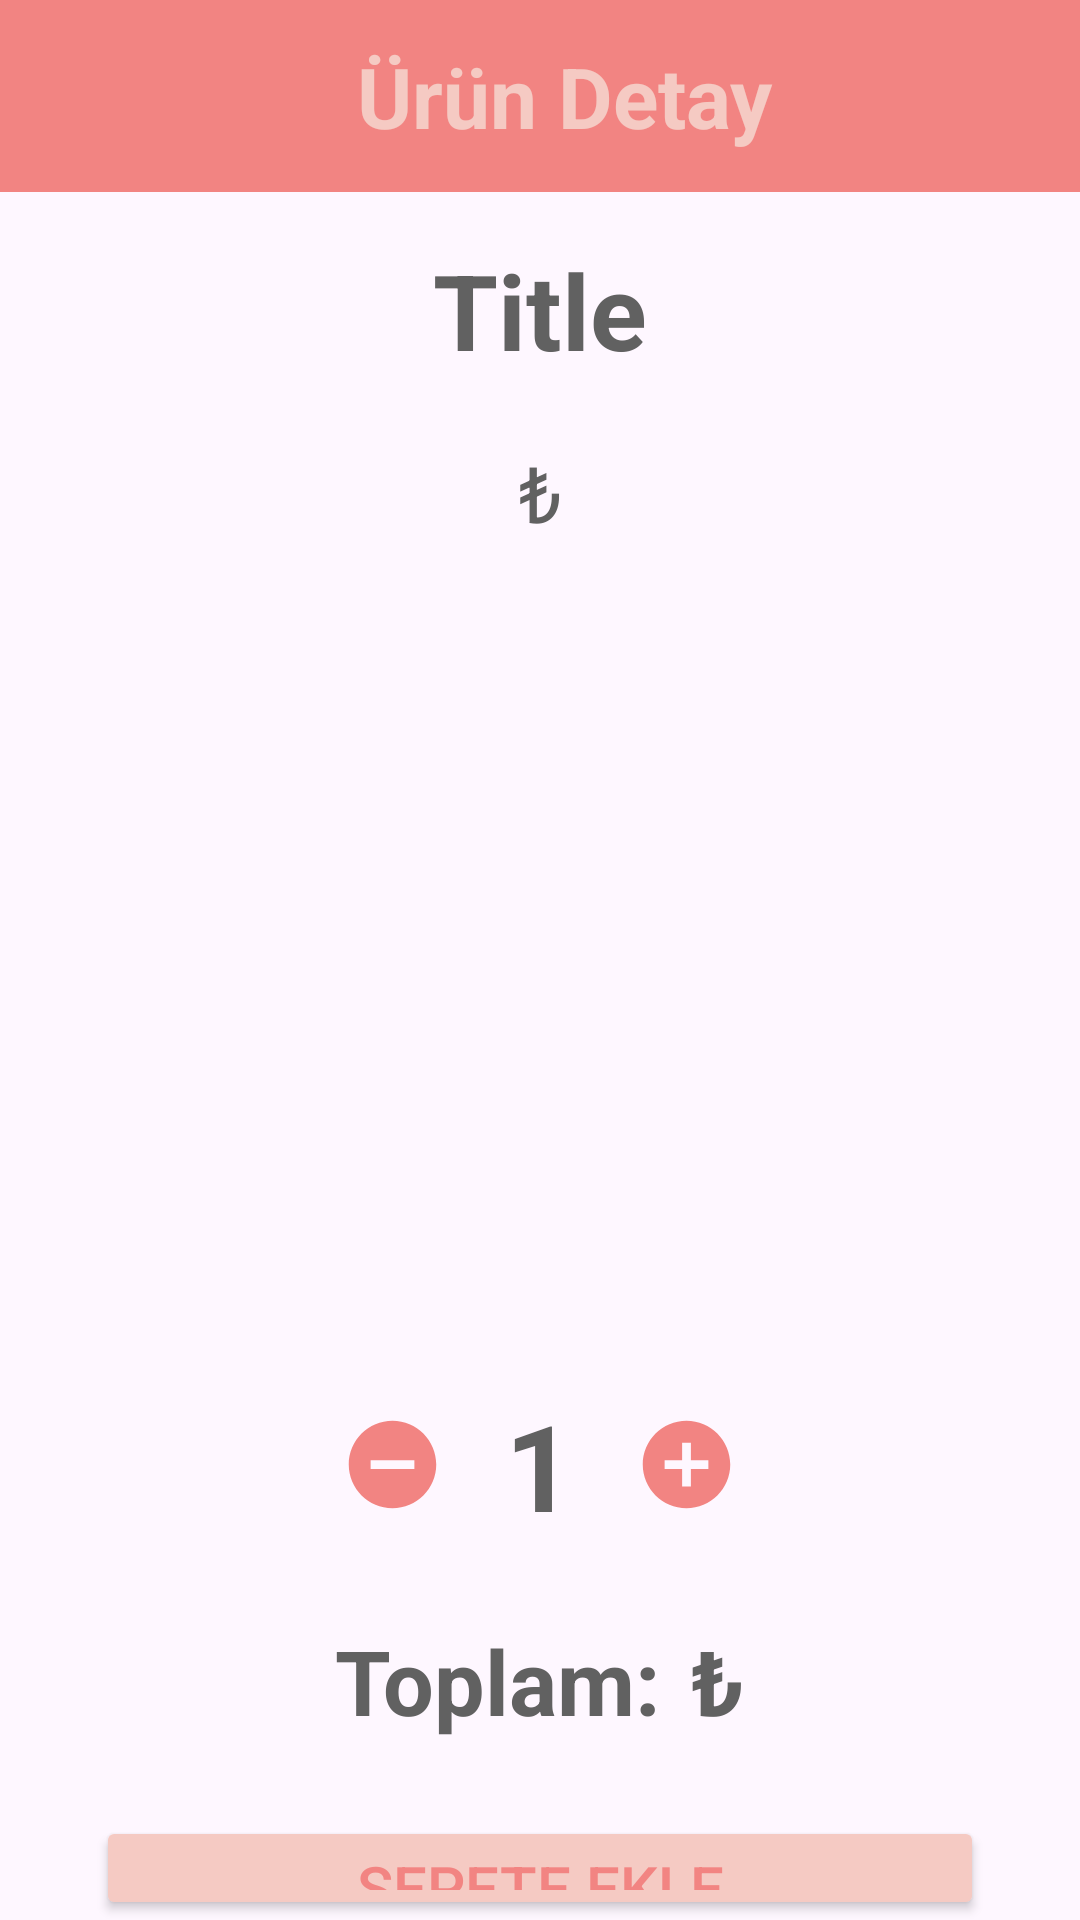

Named icons in this screenshot (1080×1920) and their bounding boxes, BBox(x1, y1, x2, y2):
add circle: BBox(642, 1420, 731, 1509)
remove circle: BBox(348, 1420, 437, 1509)
